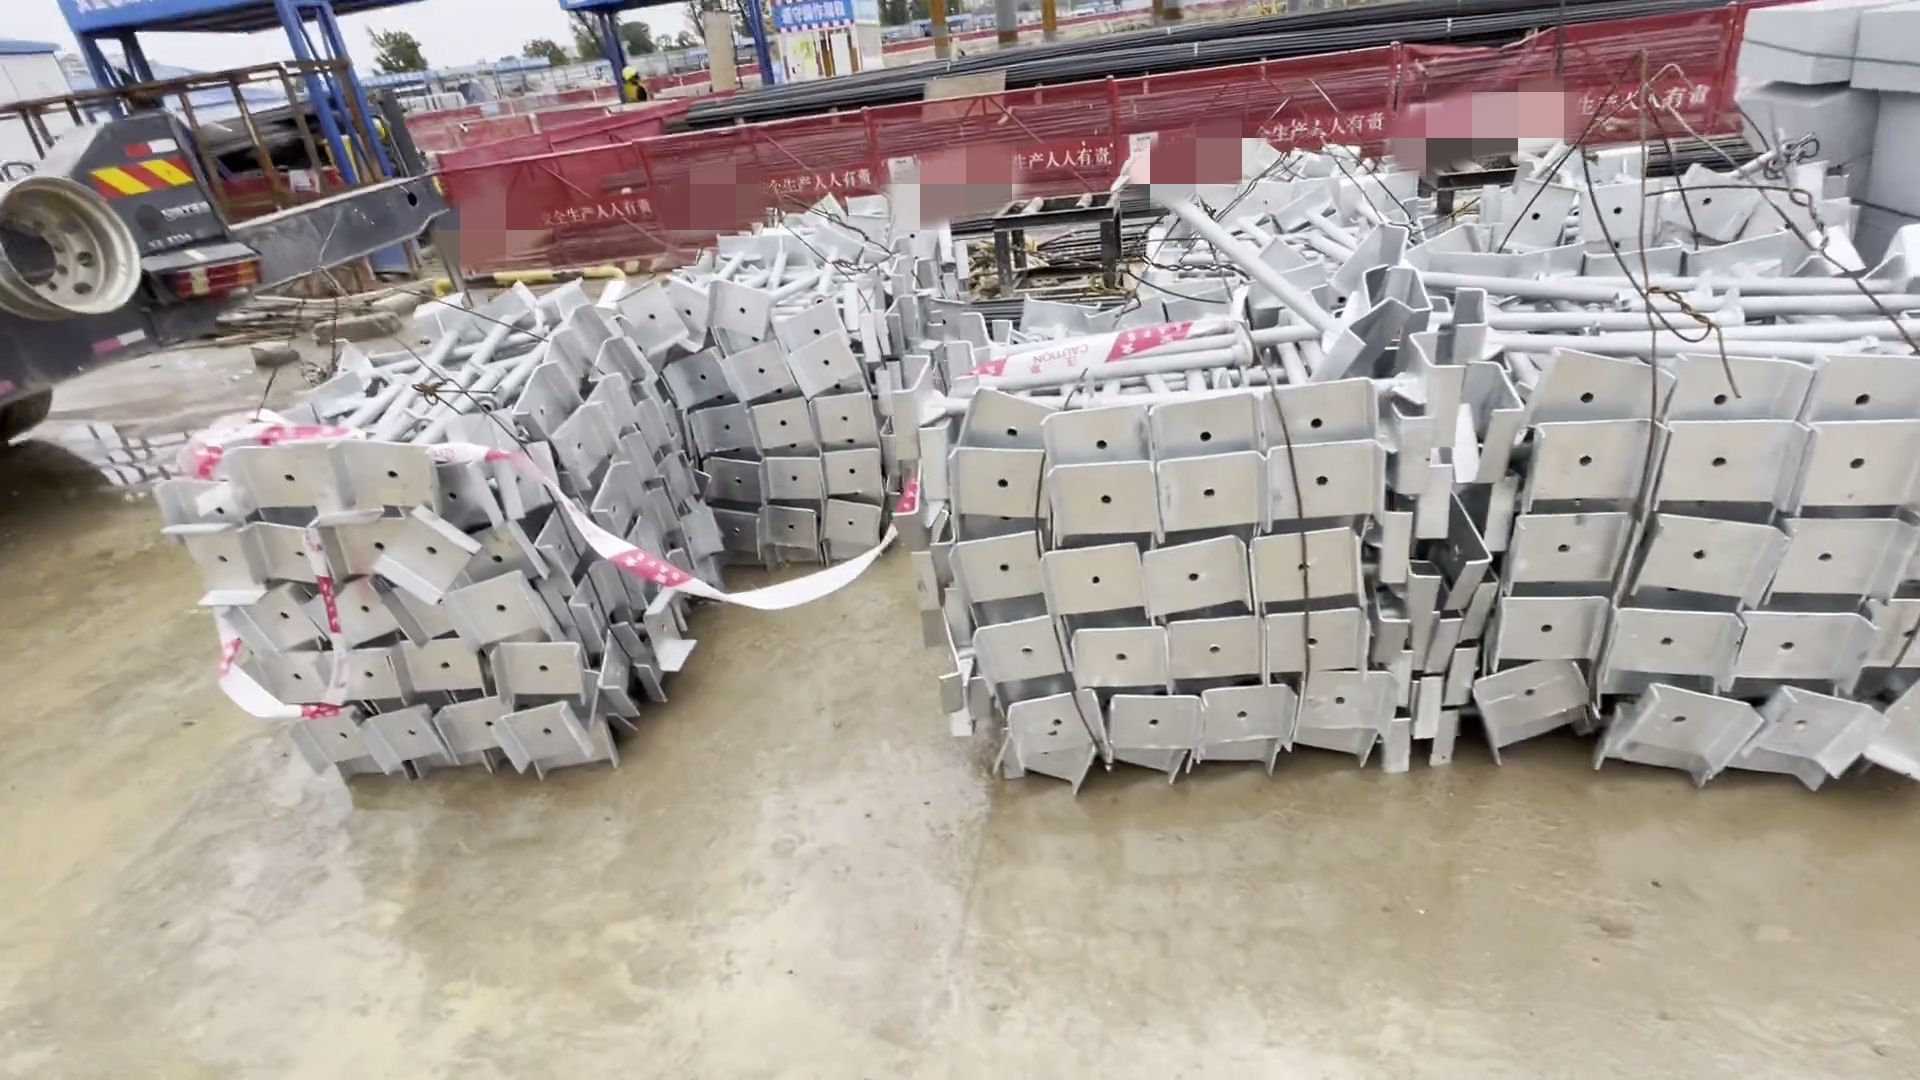fence: (425, 7, 1725, 253)
